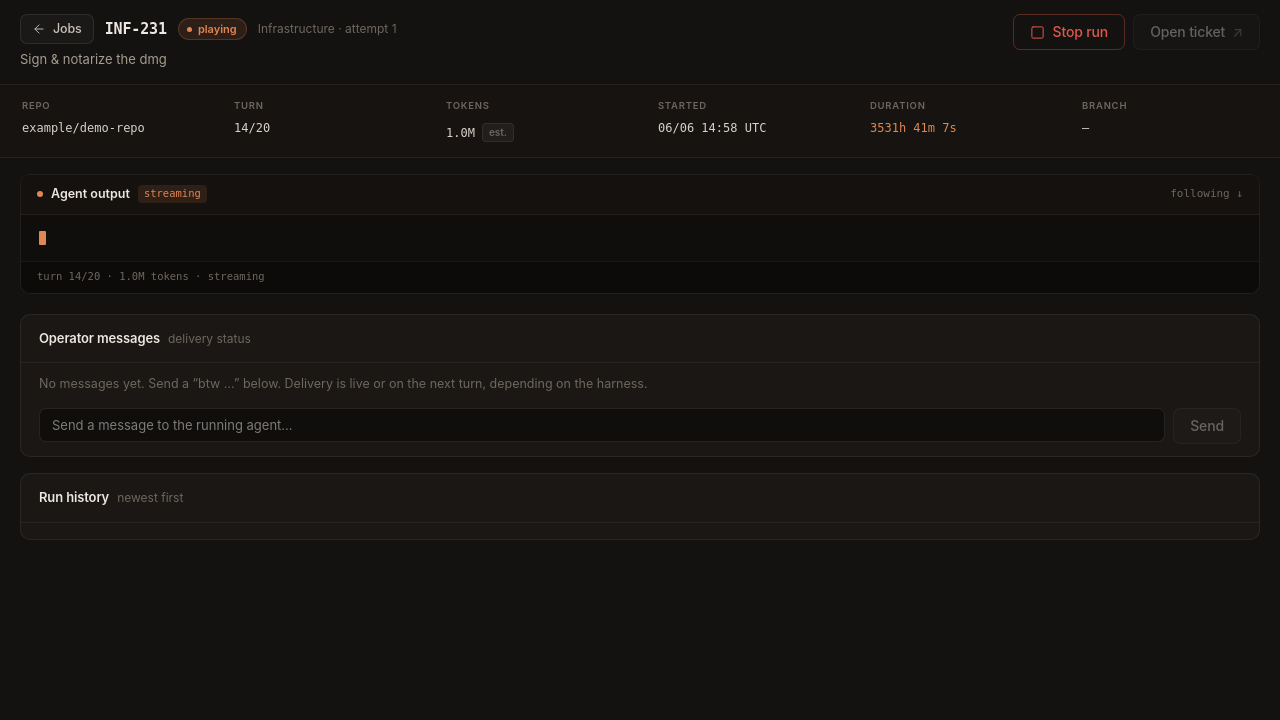
Test: RunDetail operator messages (INF-250) › surfaces a send error inline (e.g. backlog_full) without clearing the input
Type "one more" into the field with placeholder "Send a message to the running agent…" at (602, 425), box x1=39 y1=408 x2=1165 y2=442
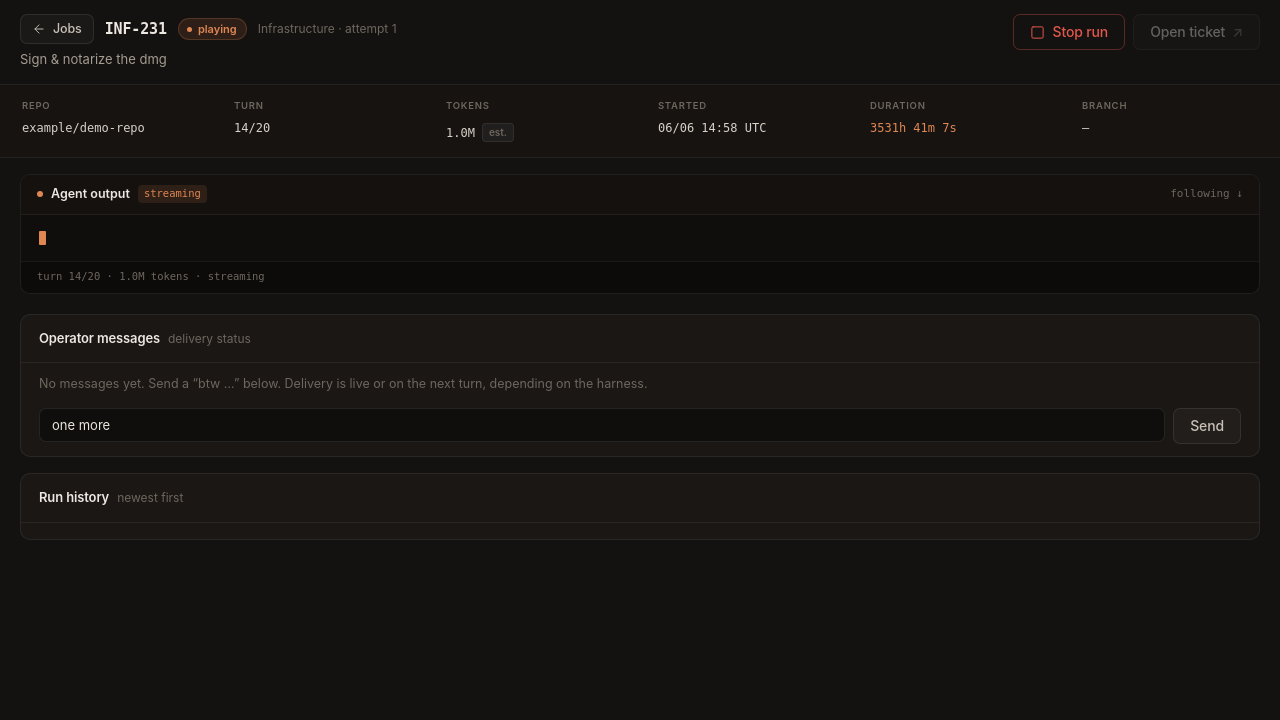
Click the button "Send" at (1207, 426), box x1=1173 y1=408 x2=1241 y2=444
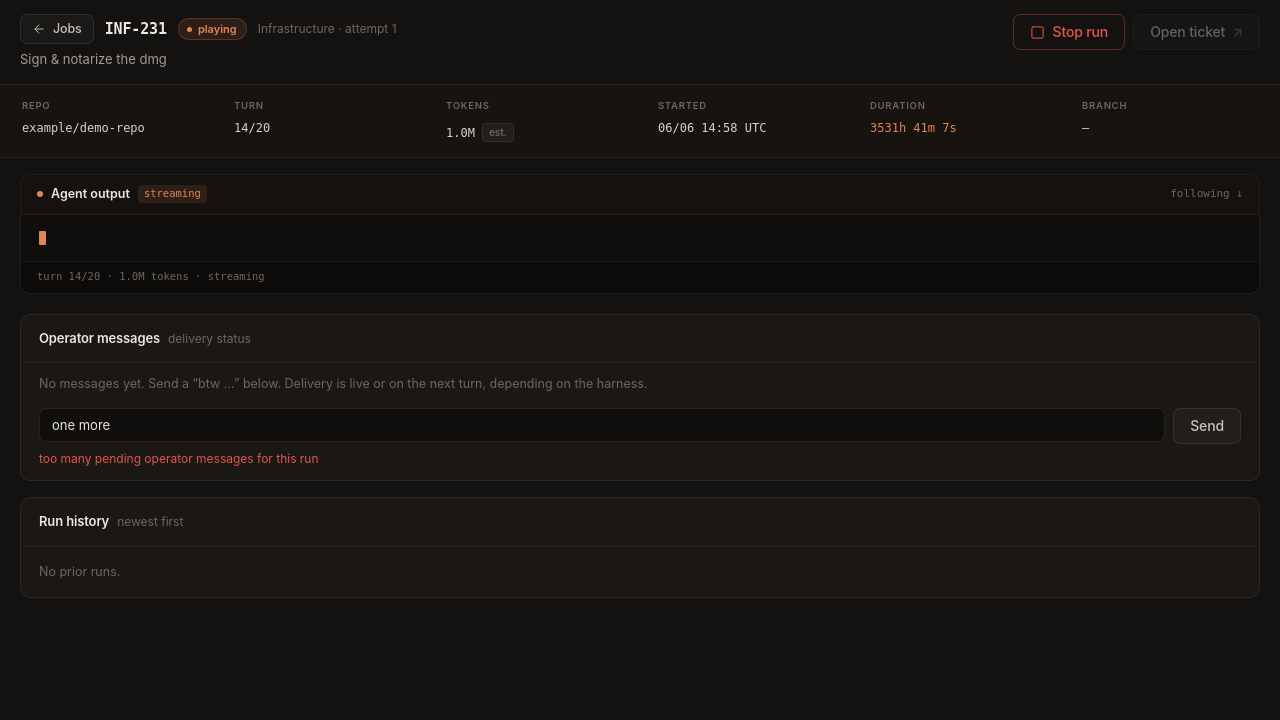
Expected: the text "too many pending operator messages for this run" is shown, x1=39 y1=451 x2=319 y2=466
